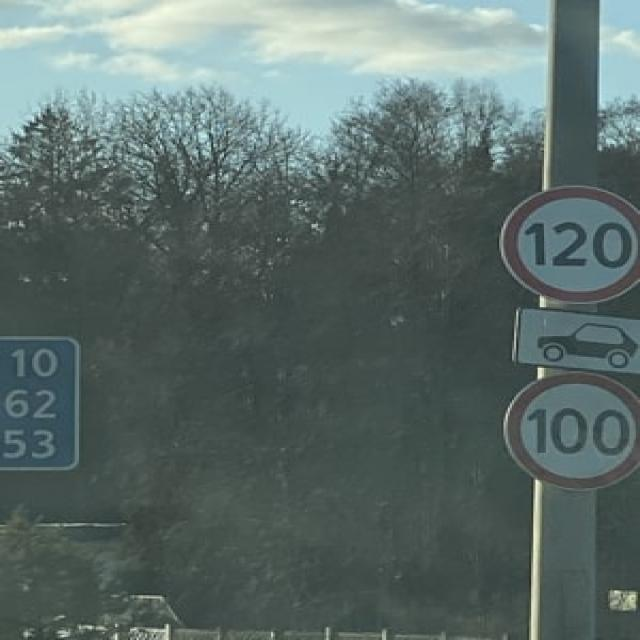Speed Limit -100-: (528, 405, 632, 457)
Speed Limit -120-: (521, 218, 632, 273)
